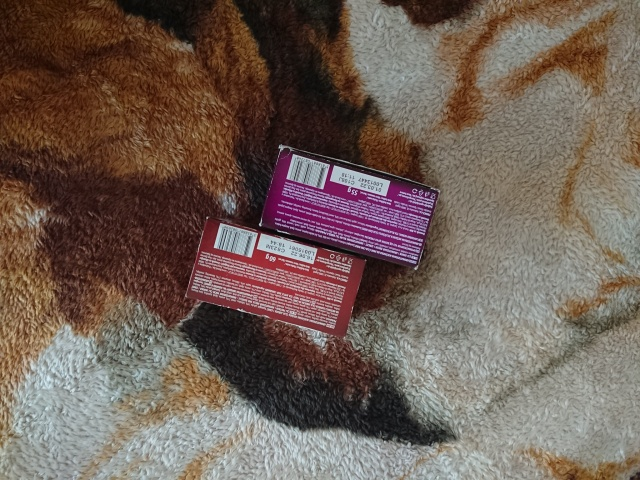Franck Apple Cinnamon Tea 60g: (180, 212, 369, 341)
Franck Black Currant Tea 60g: (256, 141, 443, 274)
